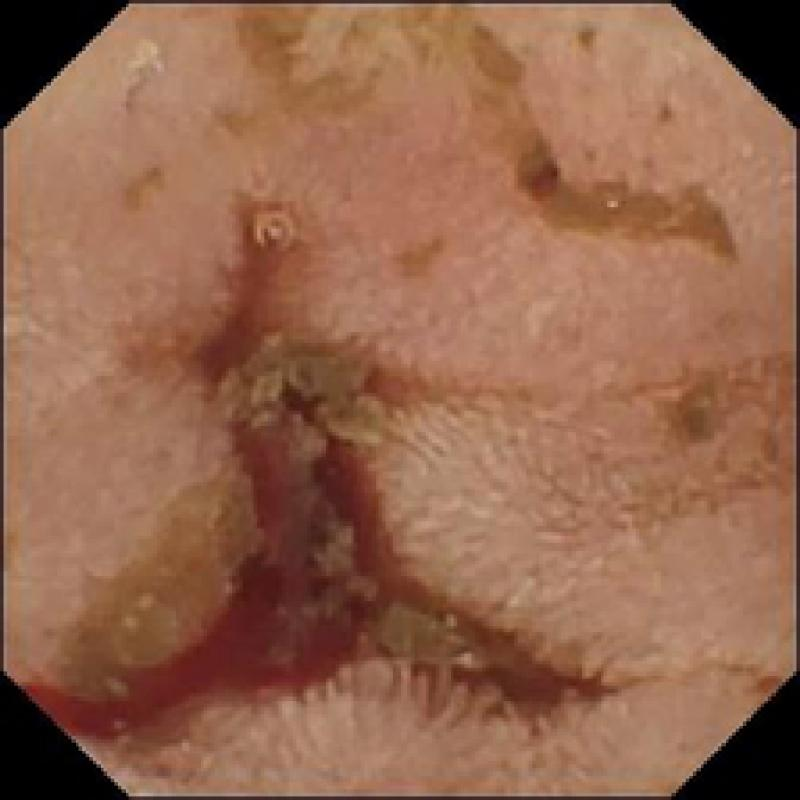bleeding: (0, 422, 400, 740)
